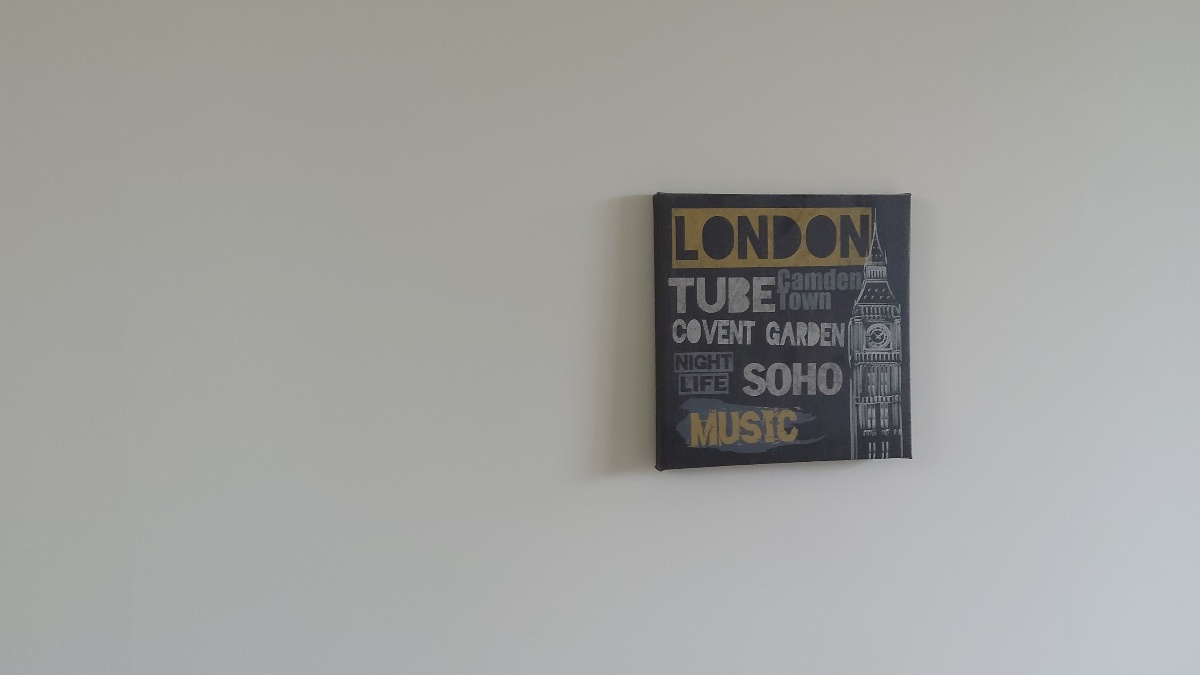poster: (643, 184, 923, 475)
